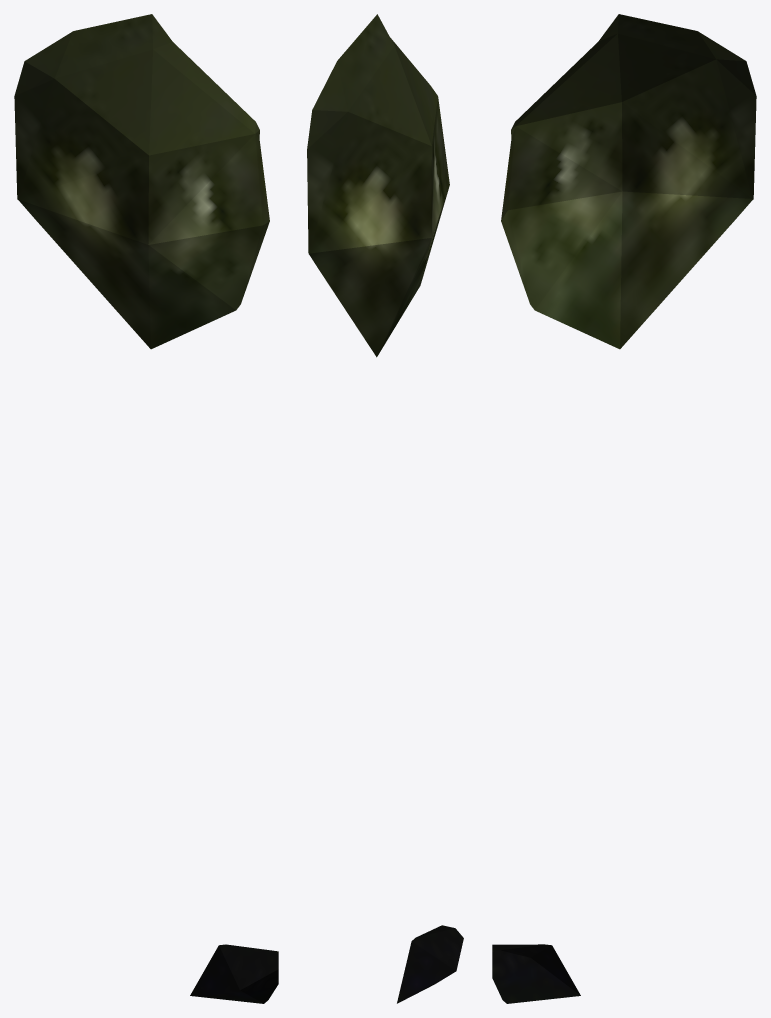
3 renders of one model, left to right at view 1: azimuth 90°, elevation 25°; view 2: azimuth 150°, elevation 25°; view 3: azimuth 270°, elevation 25°, orthographic. The views are drawn at different scales.
Size of the model in its own units: 0.1075 by 1.86 by 0.4492.
1 material, 1 textured.
